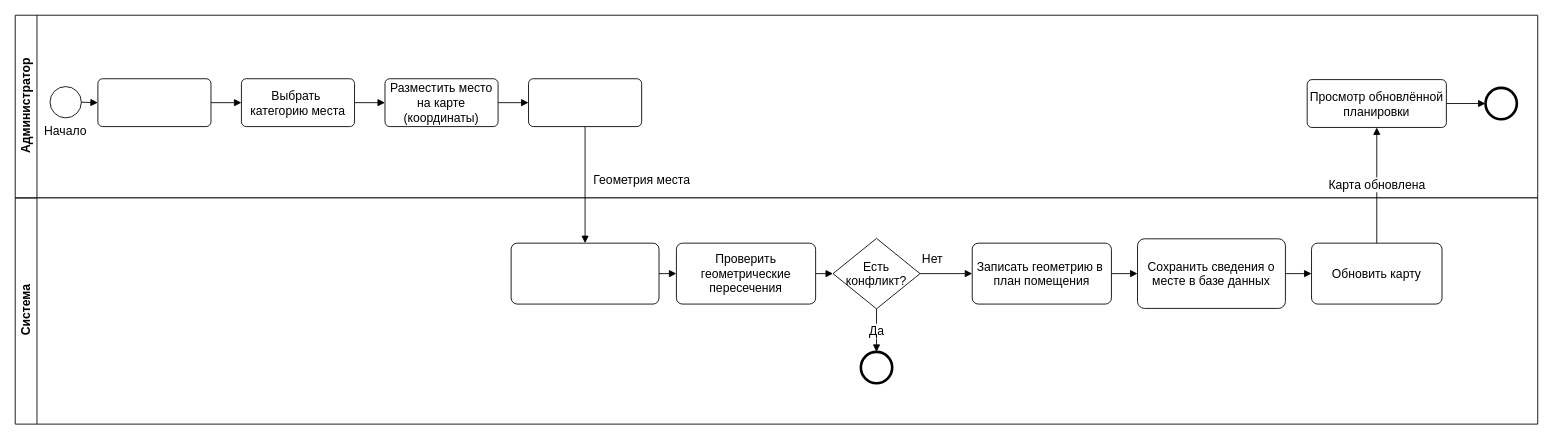
Some shapes in this 1553 by 439 pixel diagram are drawn without their labels. The shapes that lost their labels are listed below. From the top down, each one's centre as x and y in pixels, then its label:
At pixel 154 102: "Открыть редактор планировки".
At pixel 585 102: "Нажать «Сохранить планировку»".
At pixel 1501 103: "Место добавлено".
At pixel 584 273: "Рассчитать размеры объекта по категории места".
At pixel 876 367: "Сохранение отклонено".
